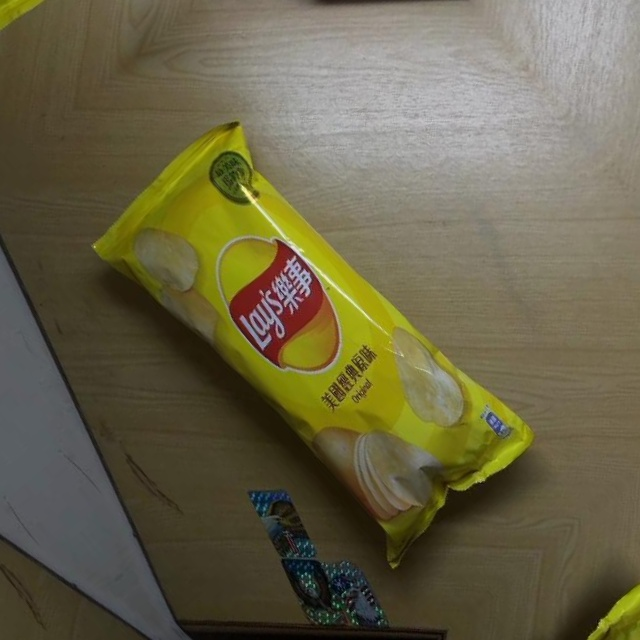Lay-s-original: (82, 94, 542, 583)
